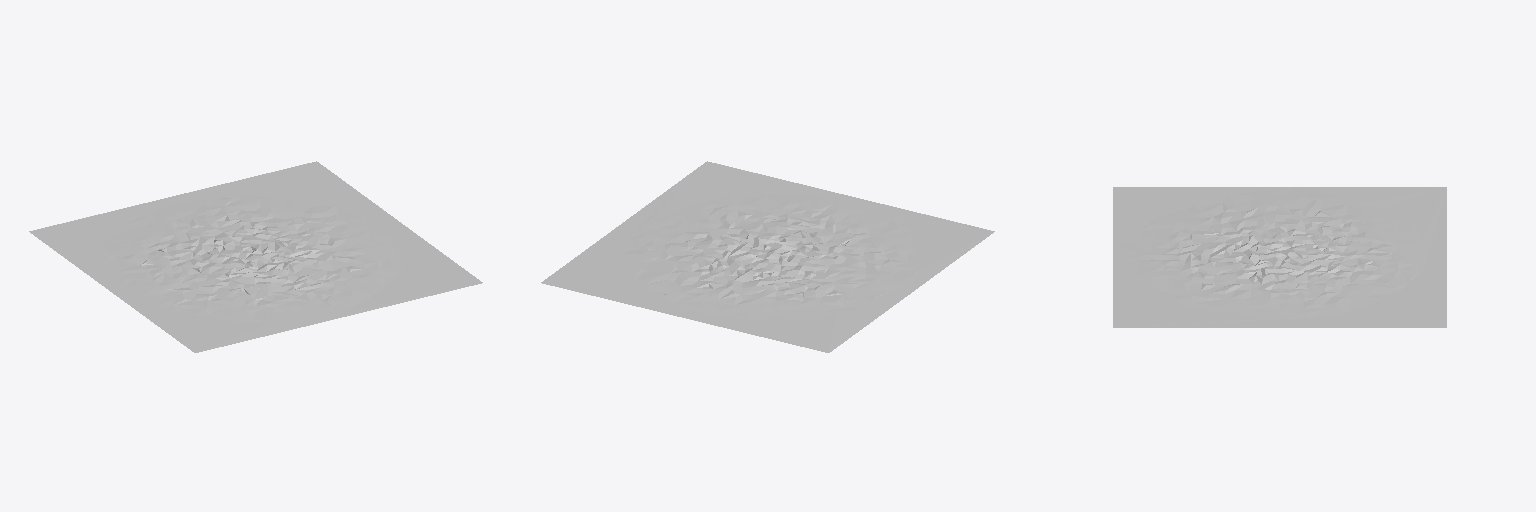
Rendered from Terrain_Part_Plane_4.obj.
3 renders of one model, left to right at view 1: azimuth 30°, elevation 25°; view 2: azimuth 150°, elevation 25°; view 3: azimuth 270°, elevation 25°, orthographic.
Visible parts, largest first — view 1: Terrain_Part_Plane_4_Plane.017; view 2: Terrain_Part_Plane_4_Plane.017; view 3: Terrain_Part_Plane_4_Plane.017.
Boxes of the visible parts, x1=… form: Terrain_Part_Plane_4_Plane.017: x1=29, y1=161, x2=482, y2=352; Terrain_Part_Plane_4_Plane.017: x1=541, y1=161, x2=994, y2=352; Terrain_Part_Plane_4_Plane.017: x1=1113, y1=187, x2=1446, y2=327.
Bounding box in the file's own units: 20 × 0.1925 × 20.